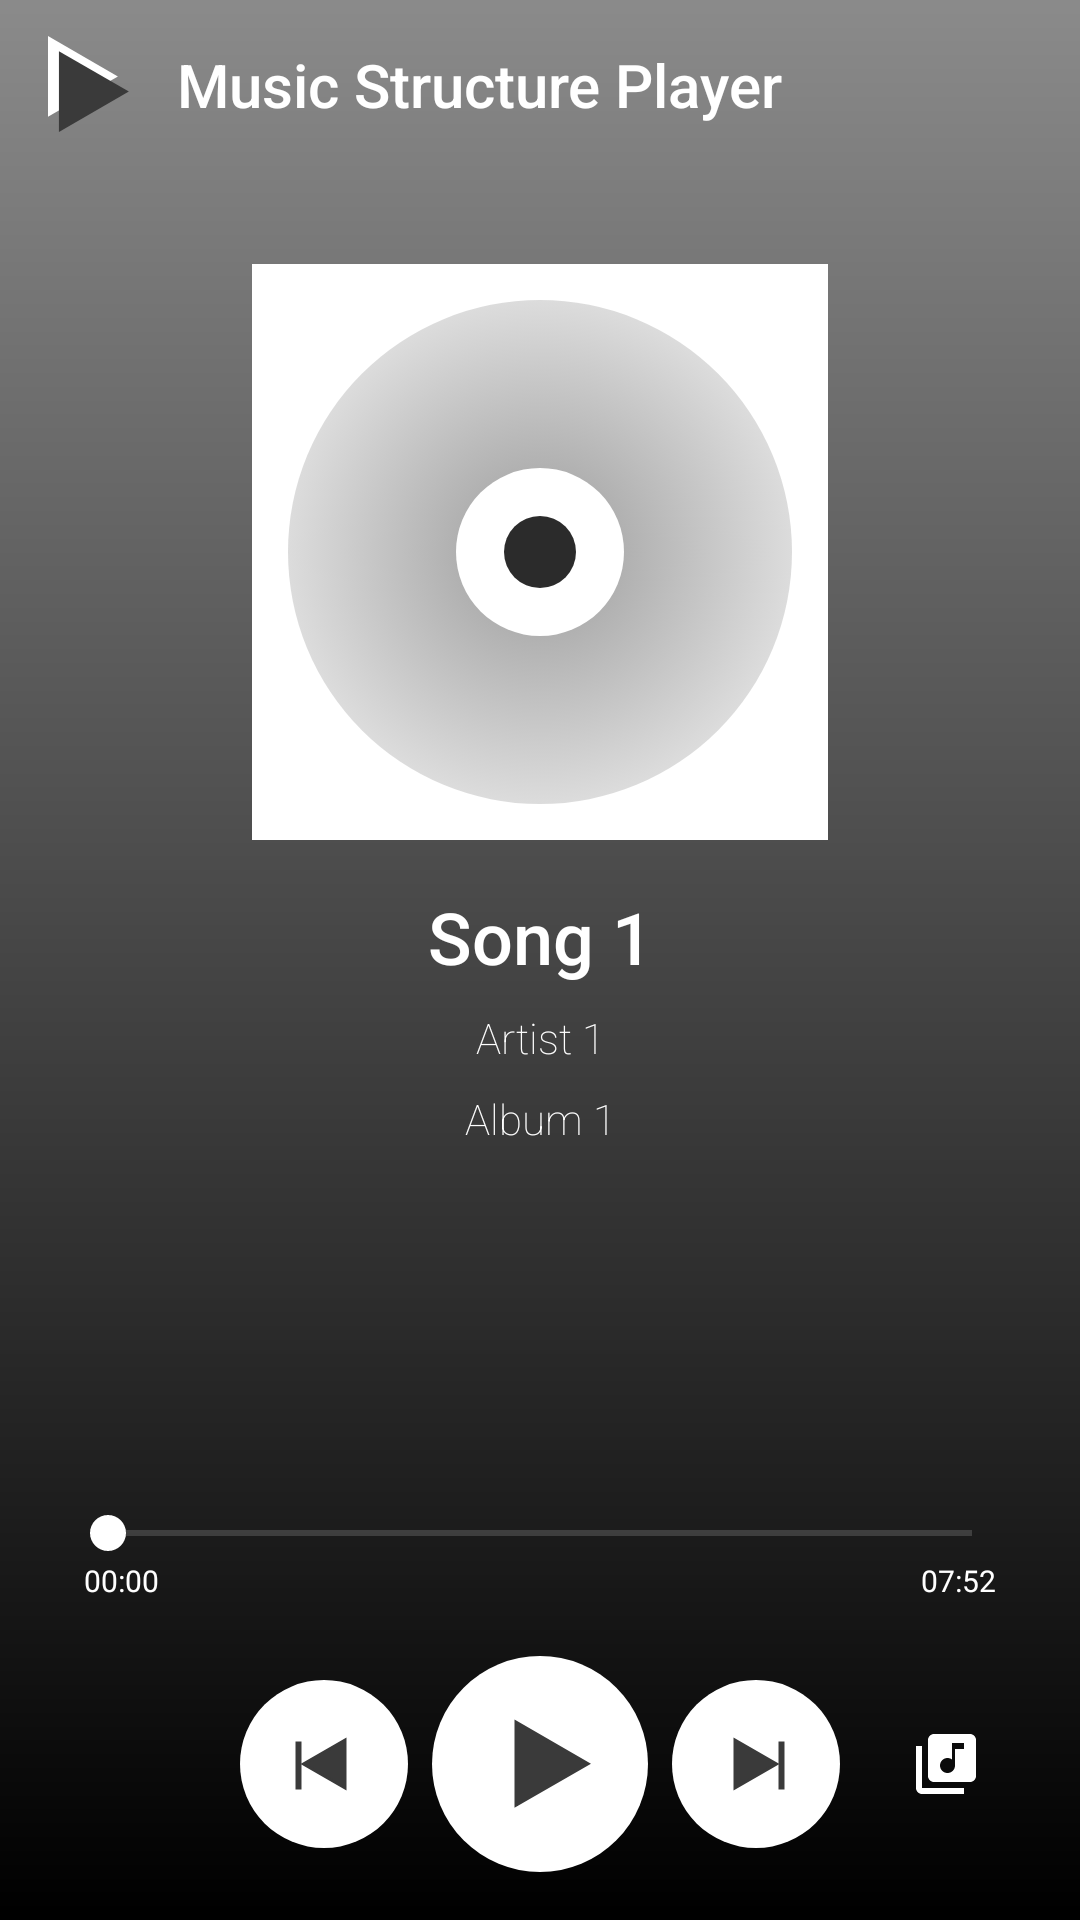

Icon click points for this 1080*1920 phone screenshot, format (x,y):
library music: (946,1764)
play pause: (540,1764)
